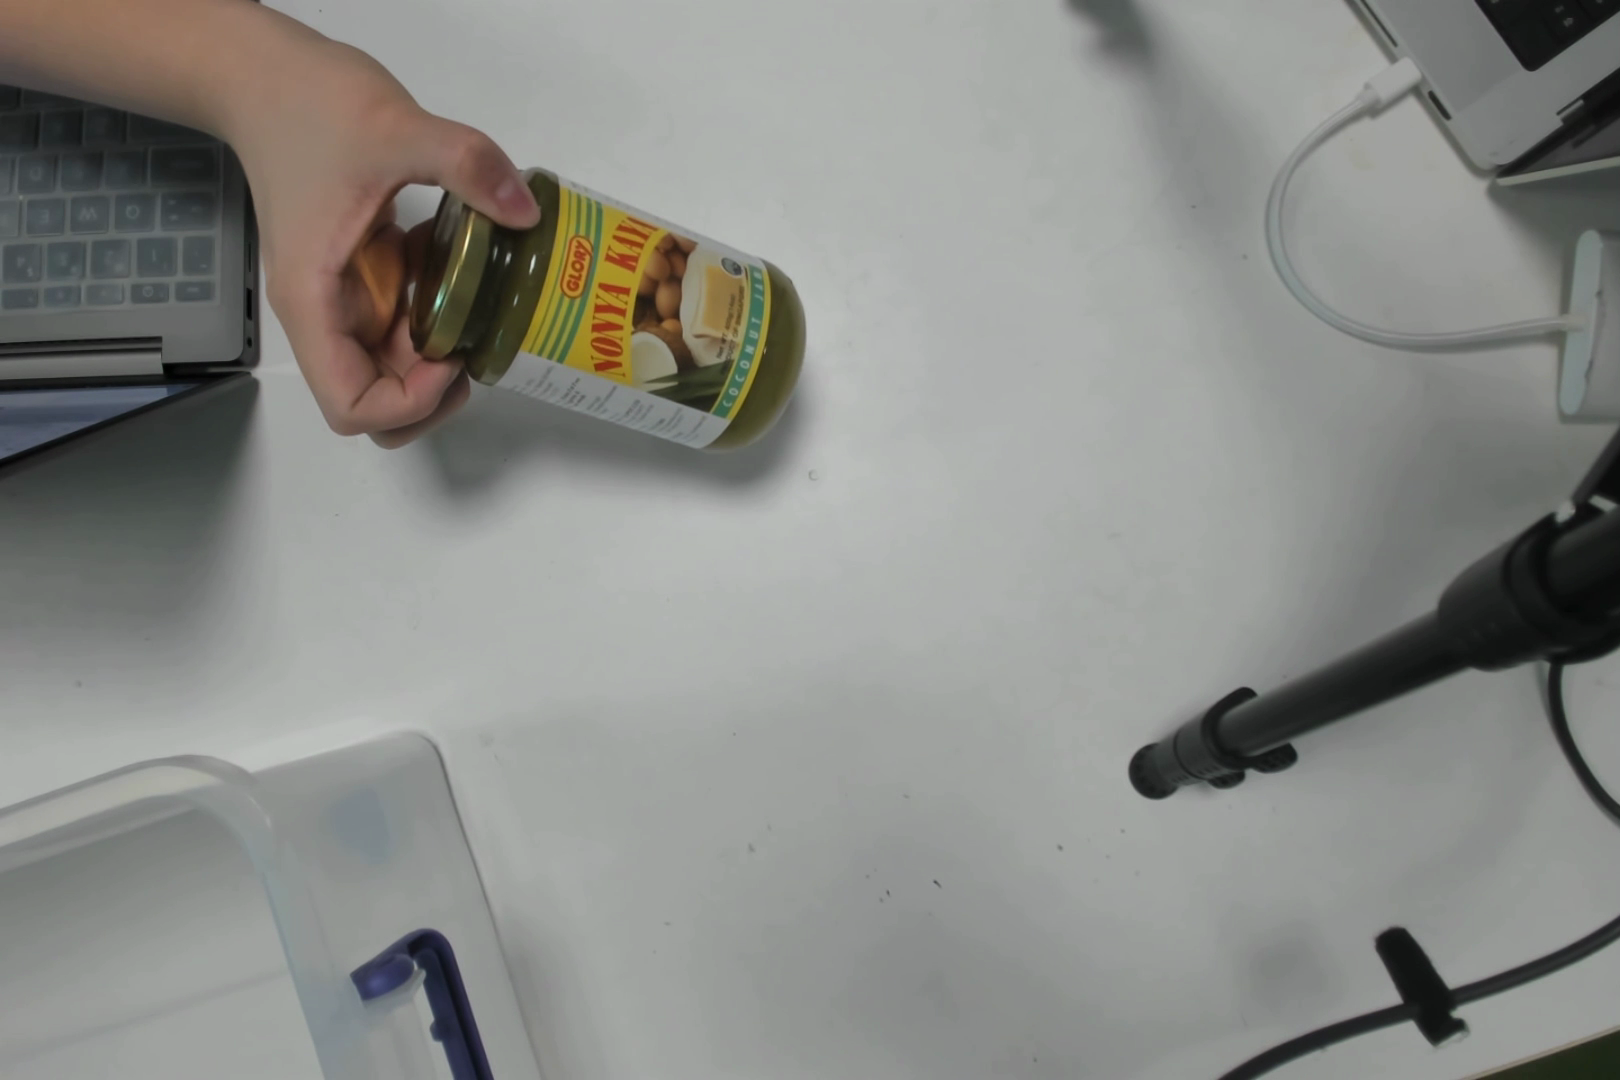Kaya_400-499g_Halal_NonHealthy: (456, 187, 802, 435)
